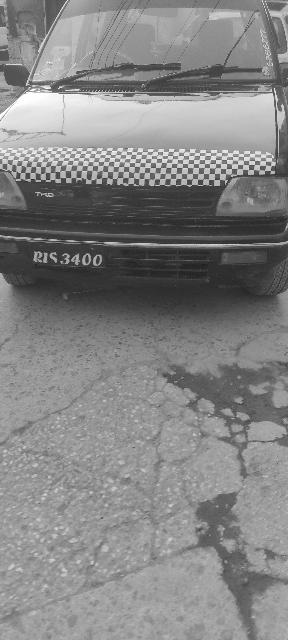Number: (31, 250, 103, 268)
